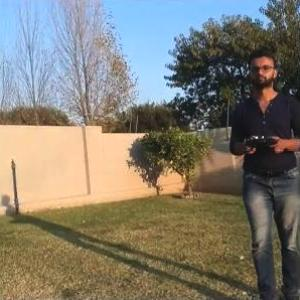follow: (227, 45, 300, 299)
